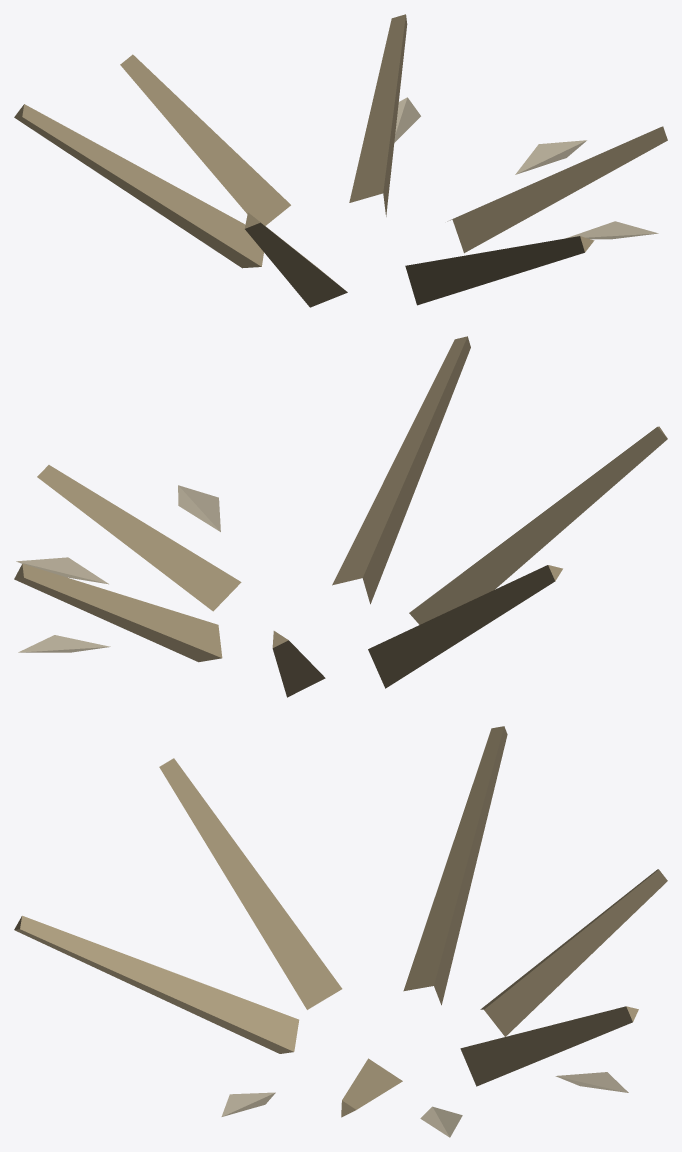
Rendered from cao.hanji@withered__spring.glb.
3 views of the same model, one above another, from view 1: azimuth 30°, elevation 25°; view 2: azimuth 150°, elevation 25°; view 3: azimuth 270°, elevation 25° (orthographic). The views are drawn at different scales.
Visible parts, largest first — view 1: cao.hanji@withered__spring; view 2: cao.hanji@withered__spring; view 3: cao.hanji@withered__spring.
Boxes of the visible parts, x1,y1,x2,y2 form: cao.hanji@withered__spring: [14, 14, 667, 307]; cao.hanji@withered__spring: [14, 336, 667, 697]; cao.hanji@withered__spring: [14, 726, 667, 1137].
Bounding box in the file's own units: 0.7461 × 0.237 × 0.7348.
